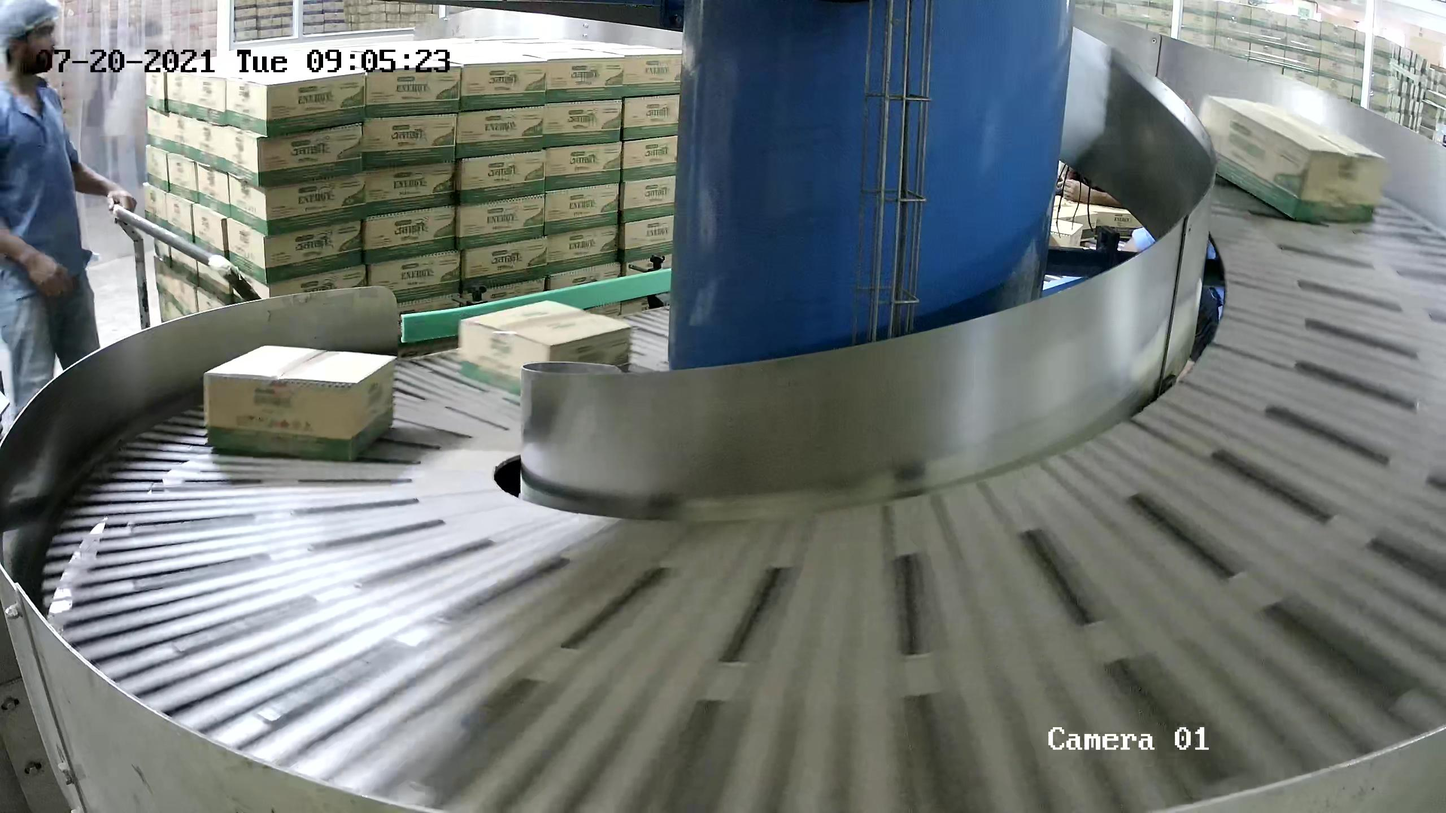Box: (1198, 94, 1386, 225), (202, 345, 398, 462), (456, 299, 633, 396)
